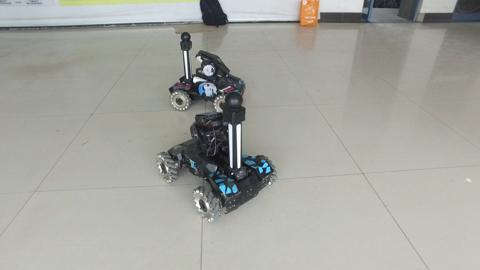chariot: (157, 112, 274, 227), (171, 34, 248, 110)
